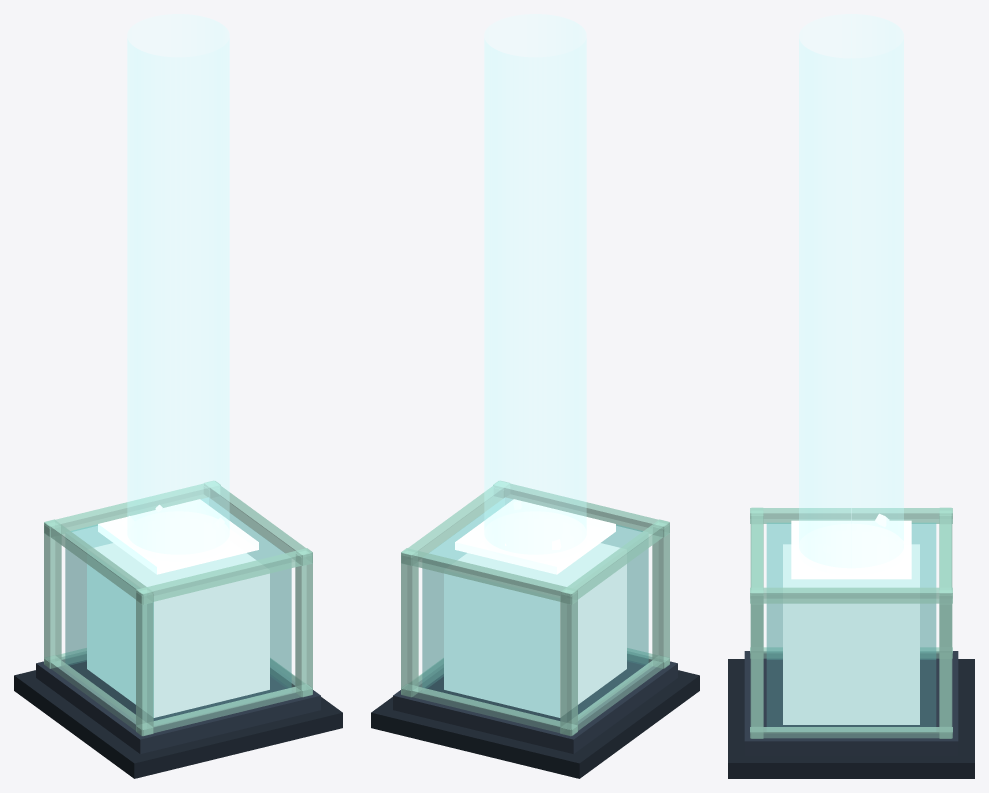
The model's file is sparkle_beacon.glb.
3 views of the same model, side by side, from view 1: azimuth 30°, elevation 25°; view 2: azimuth 150°, elevation 25°; view 3: azimuth 270°, elevation 25° (orthographic). The views are drawn at different scales.
Parts seen in each view (by area): view 1: transparent beacon beam, outer transparent cube, inner glowing cube, raised dark lower plate, black obsidian plinth, cyan light cap, top north rail, top south rail, vertical glass corner, vertical glass corner.002, vertical glass corner.001, top west rail (+3 smaller); view 2: transparent beacon beam, outer transparent cube, inner glowing cube, raised dark lower plate, black obsidian plinth, cyan light cap, top south rail, top north rail, vertical glass corner.001, vertical glass corner.003, vertical glass corner, top west rail (+3 smaller); view 3: transparent beacon beam, outer transparent cube, inner glowing cube, raised dark lower plate, black obsidian plinth, cyan light cap, top east rail, top west rail, bottom east rail, vertical glass corner.002, vertical glass corner.003, vertical glass corner (+4 smaller).
Part boxes in pixels (left/top/right/bottom): transparent beacon beam: left=127, top=14, right=229, bottom=553; outer transparent cube: left=65, top=497, right=291, bottom=720; inner glowing cube: left=87, top=543, right=269, bottom=717; raised dark lower plate: left=36, top=654, right=320, bottom=753; black obsidian plinth: left=14, top=670, right=342, bottom=778; cyan light cap: left=98, top=499, right=258, bottom=574; top north rail: left=136, top=548, right=312, bottom=604; top south rail: left=44, top=481, right=220, bottom=537; vertical glass corner: left=136, top=592, right=153, bottom=735; vertical glass corner.002: left=295, top=553, right=312, bottom=696; vertical glass corner.001: left=44, top=525, right=61, bottom=668; top west rail: left=44, top=519, right=153, bottom=604; transparent beacon beam: left=484, top=14, right=586, bottom=553; outer transparent cube: left=422, top=497, right=648, bottom=720; inner glowing cube: left=444, top=543, right=626, bottom=717; raised dark lower plate: left=393, top=654, right=677, bottom=753; black obsidian plinth: left=371, top=670, right=699, bottom=778; cyan light cap: left=455, top=499, right=615, bottom=574; top south rail: left=401, top=548, right=577, bottom=604; top north rail: left=493, top=481, right=669, bottom=537; vertical glass corner.001: left=560, top=592, right=577, bottom=735; vertical glass corner.003: left=401, top=553, right=418, bottom=696; vertical glass corner: left=652, top=525, right=669, bottom=668; top west rail: left=560, top=519, right=669, bottom=604; transparent beacon beam: left=799, top=14, right=903, bottom=567; outer transparent cube: left=766, top=522, right=936, bottom=726; inner glowing cube: left=783, top=544, right=919, bottom=724; raised dark lower plate: left=744, top=651, right=958, bottom=755; black obsidian plinth: left=728, top=659, right=974, bottom=778; cyan light cap: left=791, top=520, right=911, bottom=579; top east rail: left=750, top=587, right=952, bottom=603; top west rail: left=750, top=508, right=952, bottom=523; bottom east rail: left=750, top=727, right=952, bottom=738; vertical glass corner.002: left=750, top=591, right=763, bottom=738; vertical glass corner.003: left=939, top=591, right=952, bottom=738; vertical glass corner: left=750, top=511, right=763, bottom=646.
Size of the model in its own units: 2.25 by 6.95 by 2.25.
